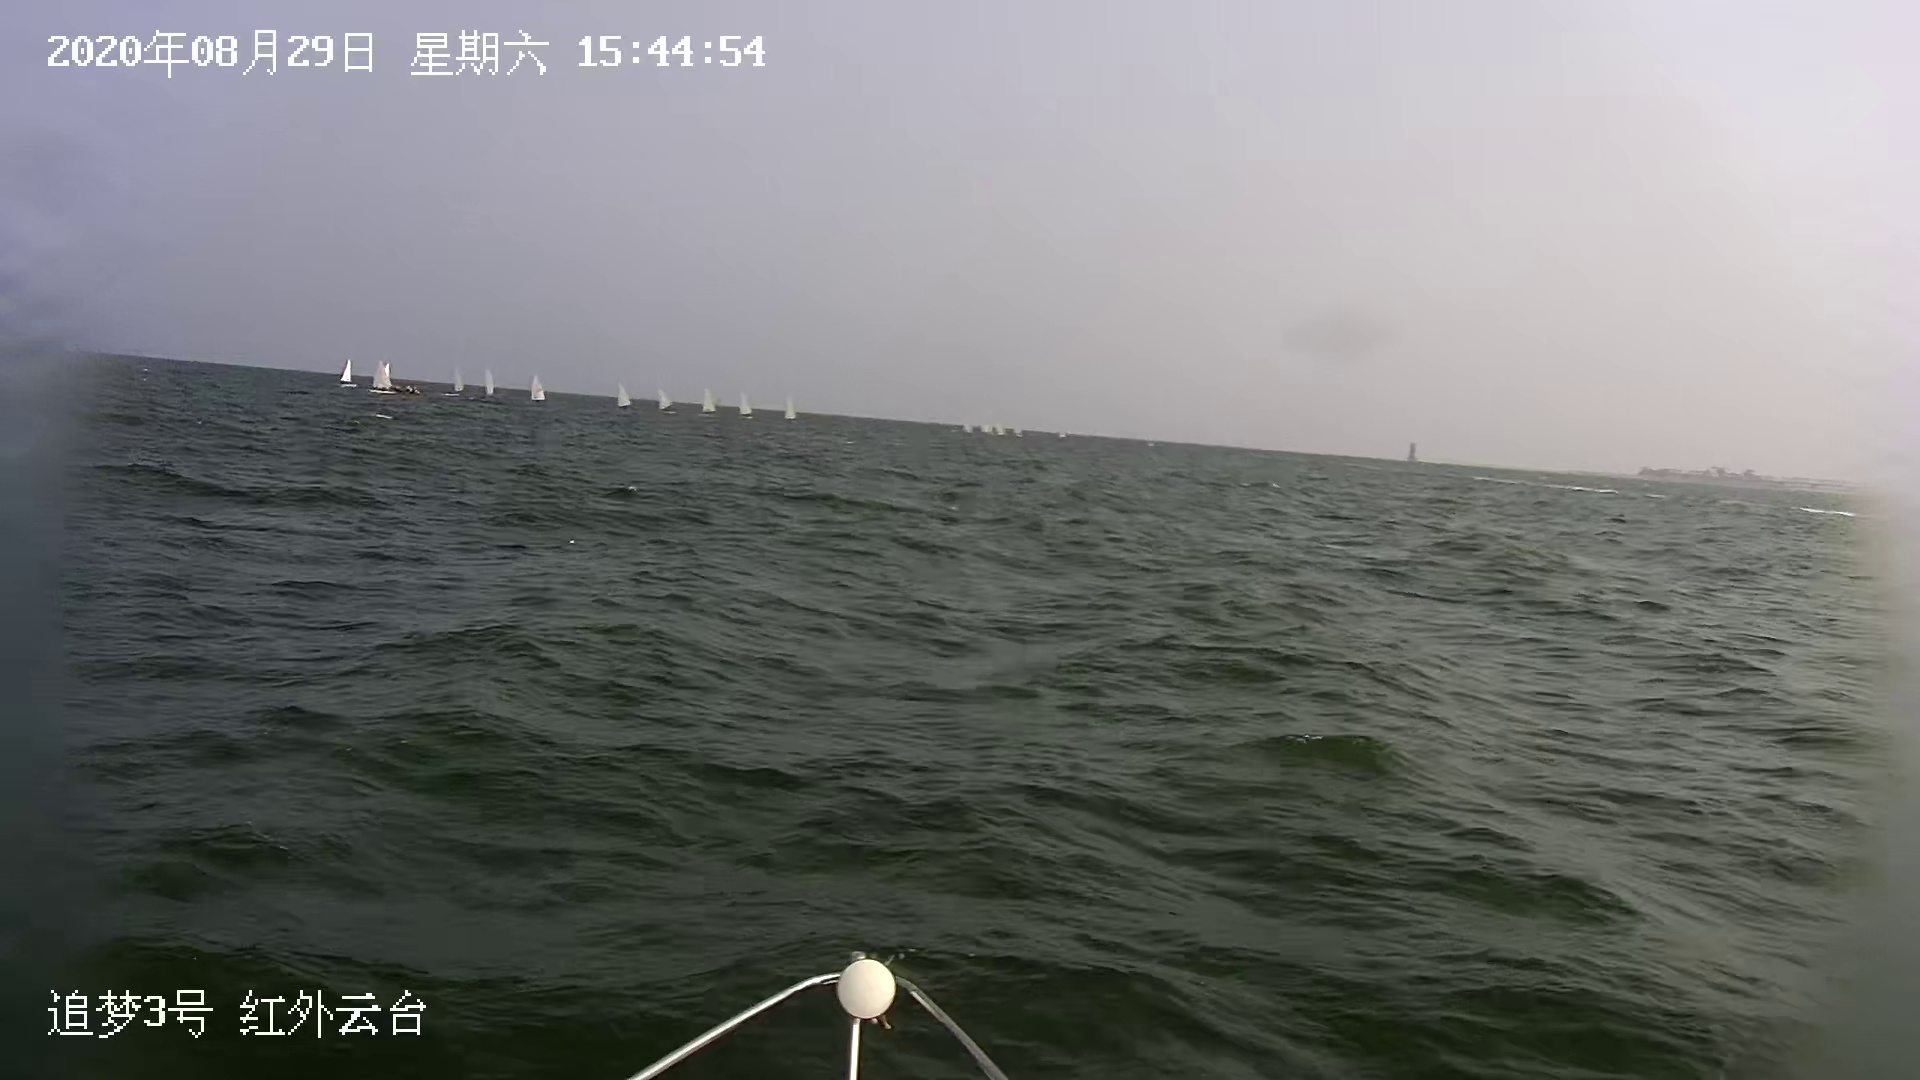barrier: (372, 360, 396, 397), (442, 364, 465, 397), (483, 363, 500, 401), (529, 373, 549, 404), (737, 392, 757, 422), (702, 385, 720, 417), (339, 357, 357, 388), (781, 396, 800, 422), (615, 378, 632, 407), (659, 388, 678, 414), (1406, 440, 1422, 465), (1011, 425, 1023, 440), (996, 423, 1006, 438), (982, 425, 993, 435), (964, 425, 975, 434), (1059, 430, 1067, 440)
coast: (1629, 465, 1915, 498)
